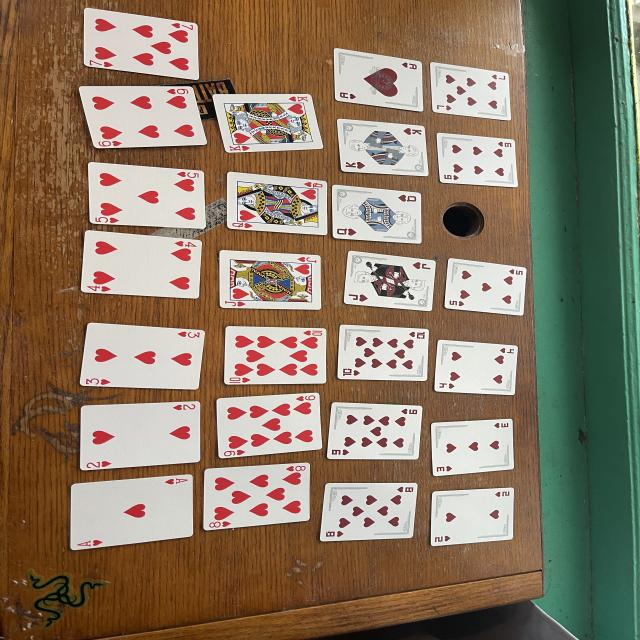10 of hearts: (225, 326, 327, 385), (337, 325, 428, 381)
2 of hearts: (80, 401, 200, 470), (430, 488, 513, 546)
3 of hearts: (80, 322, 205, 390), (430, 419, 515, 476)
4 of hearts: (80, 230, 202, 299), (435, 340, 518, 395)
5 of hearts: (88, 162, 205, 229), (445, 259, 527, 315)
6 of hearts: (78, 86, 207, 149), (437, 132, 518, 188)
7 of hearts: (83, 8, 198, 80), (430, 62, 512, 120)
8 of hearts: (203, 462, 310, 530), (320, 482, 418, 541)
9 of hearts: (217, 392, 322, 459), (327, 402, 422, 460)
Ace of hearts: (70, 475, 193, 550), (333, 49, 423, 111)
Jack of hearts: (220, 250, 322, 310), (343, 251, 437, 311)
King of hearts: (213, 94, 323, 152), (337, 119, 428, 176)
Queen of hearts: (227, 172, 328, 235), (332, 185, 422, 244)
